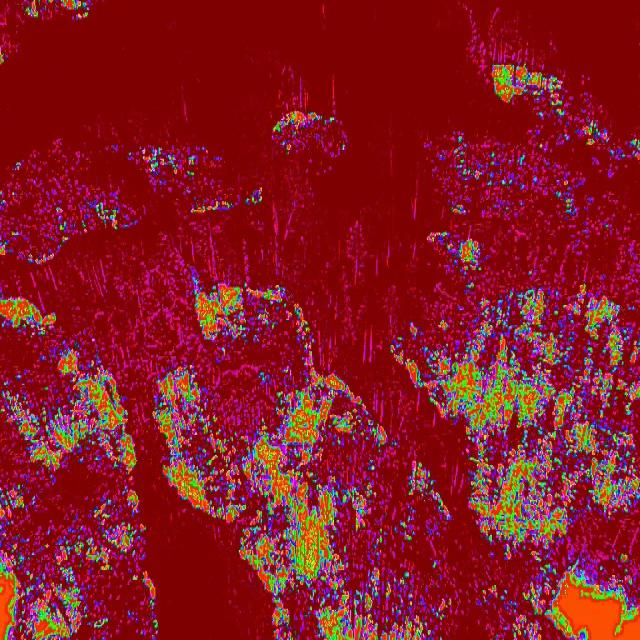fire: (151, 278, 640, 522), (0, 277, 133, 640), (236, 521, 640, 640), (418, 118, 640, 270), (0, 134, 154, 265), (127, 134, 260, 218), (476, 54, 598, 106), (271, 100, 357, 166), (134, 489, 156, 640), (16, 0, 89, 28)
